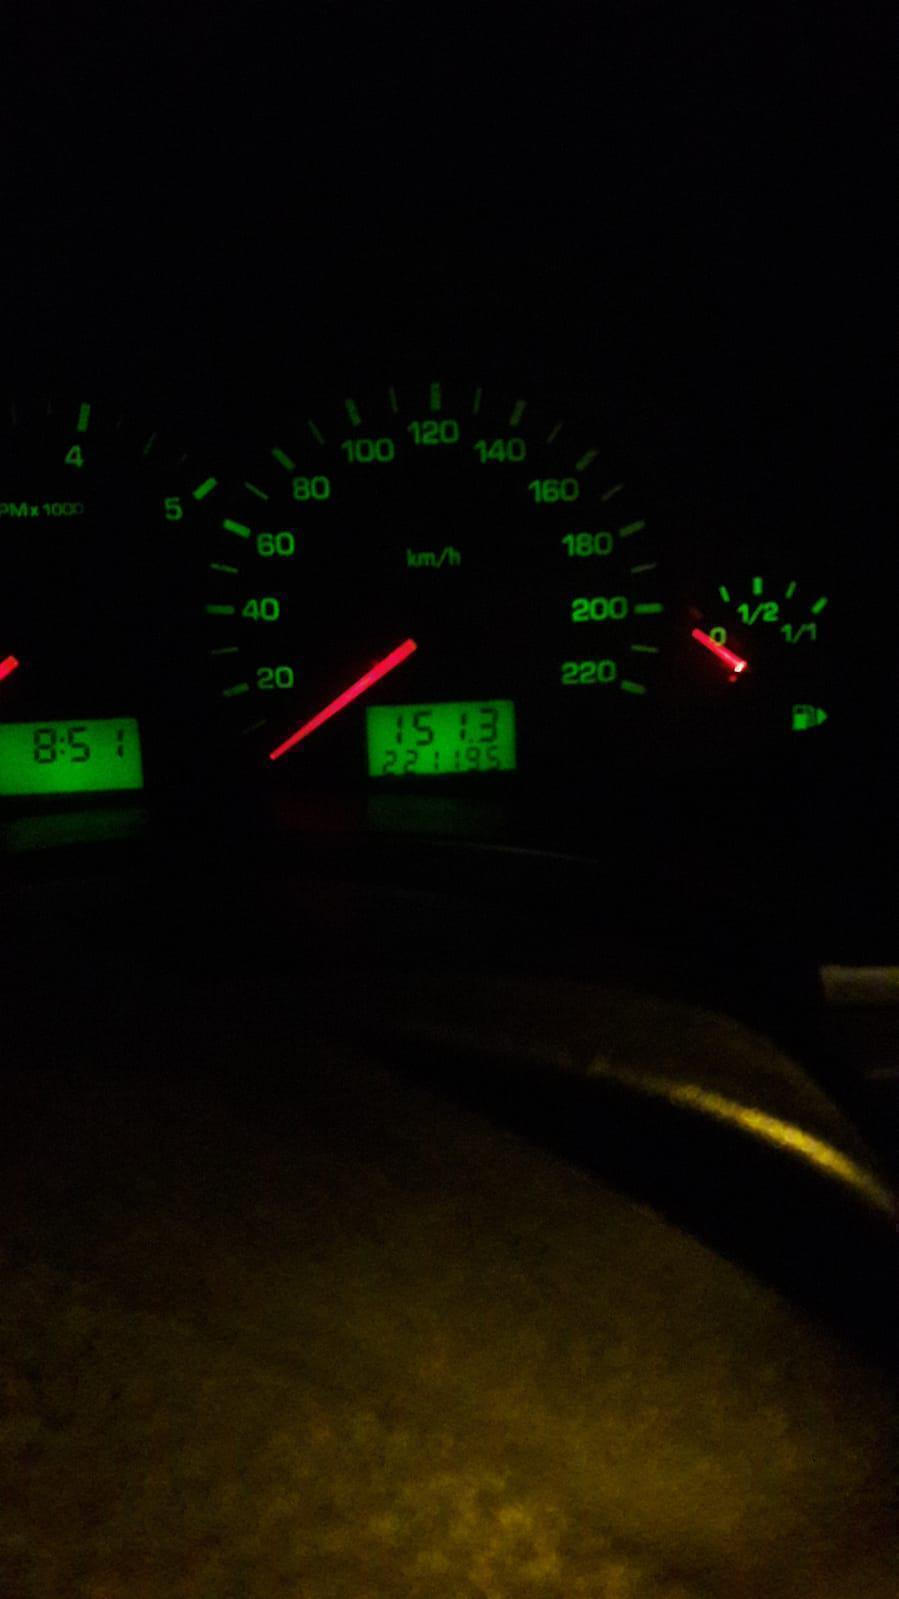,: (467, 737, 475, 743)
1: (458, 711, 467, 741), (395, 713, 403, 745), (432, 750, 440, 770), (454, 750, 461, 769)
2: (402, 748, 418, 776), (382, 750, 397, 778)
3: (477, 706, 498, 742)
5: (413, 709, 432, 746), (486, 745, 501, 770)
9: (465, 746, 480, 772)
odometer: (362, 697, 519, 779)
